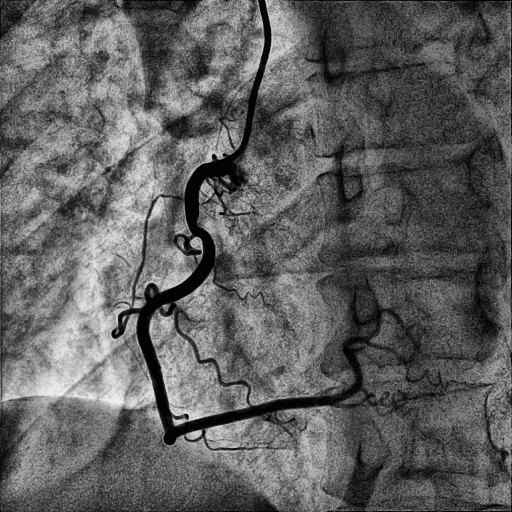pborca: (331, 338, 442, 404)
rca: (137, 158, 332, 445)
